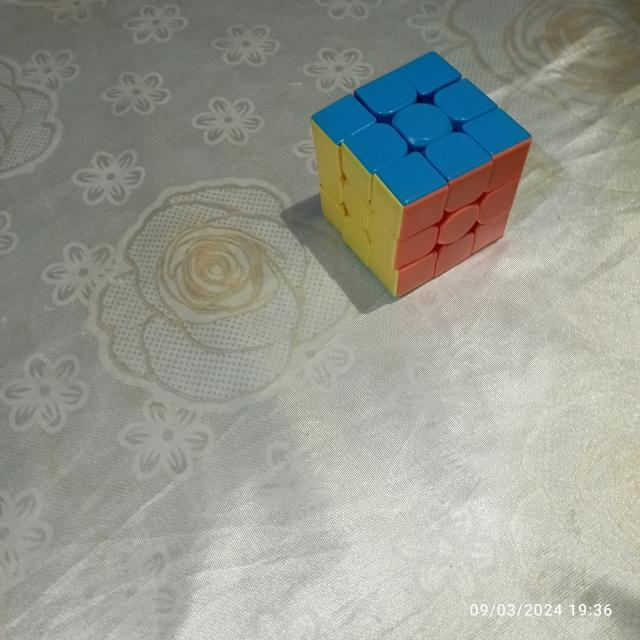Rub: (306, 46, 534, 304)
